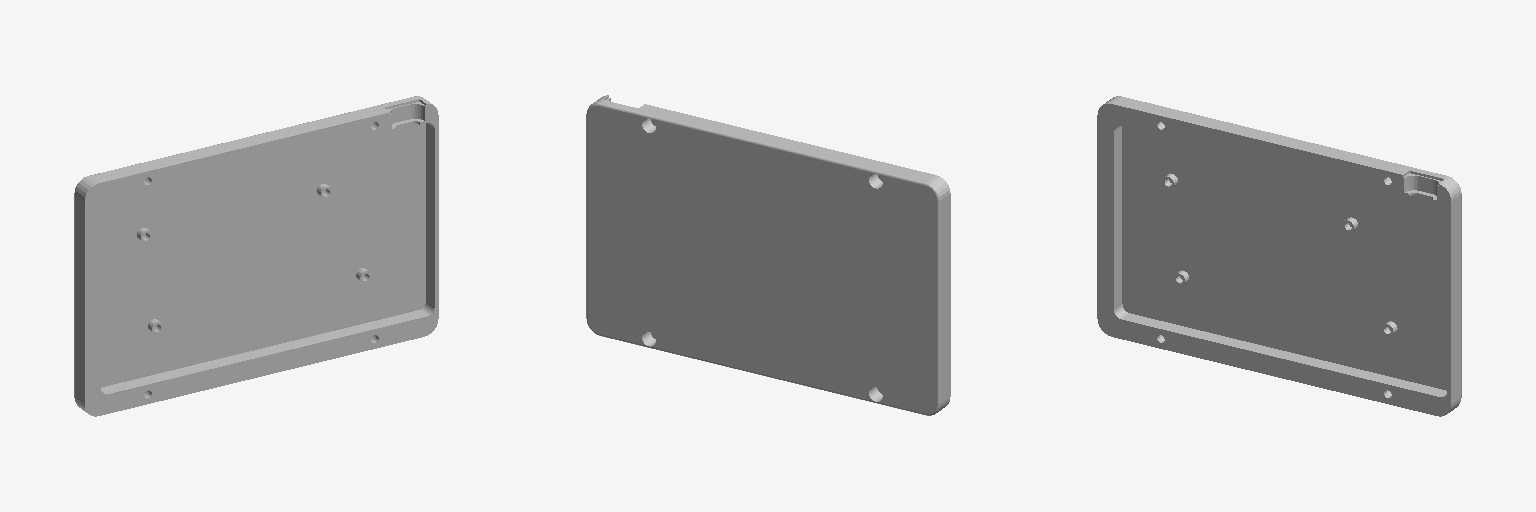
File: theclassic-bottom.obj
3 renders of one model, left to right at view 1: azimuth 30°, elevation 25°; view 2: azimuth 150°, elevation 25°; view 3: azimuth 330°, elevation 25°, orthographic.
Visible parts, largest first — view 1: Bottom; view 2: Bottom; view 3: Bottom.
Boxes of the visible parts, box(x1,y1,x2,y2) form: Bottom: box(74, 96, 438, 416); Bottom: box(586, 95, 950, 415); Bottom: box(1097, 96, 1461, 416).
Size of the model in its own units: 14.98 by 9.42 by 0.8194.